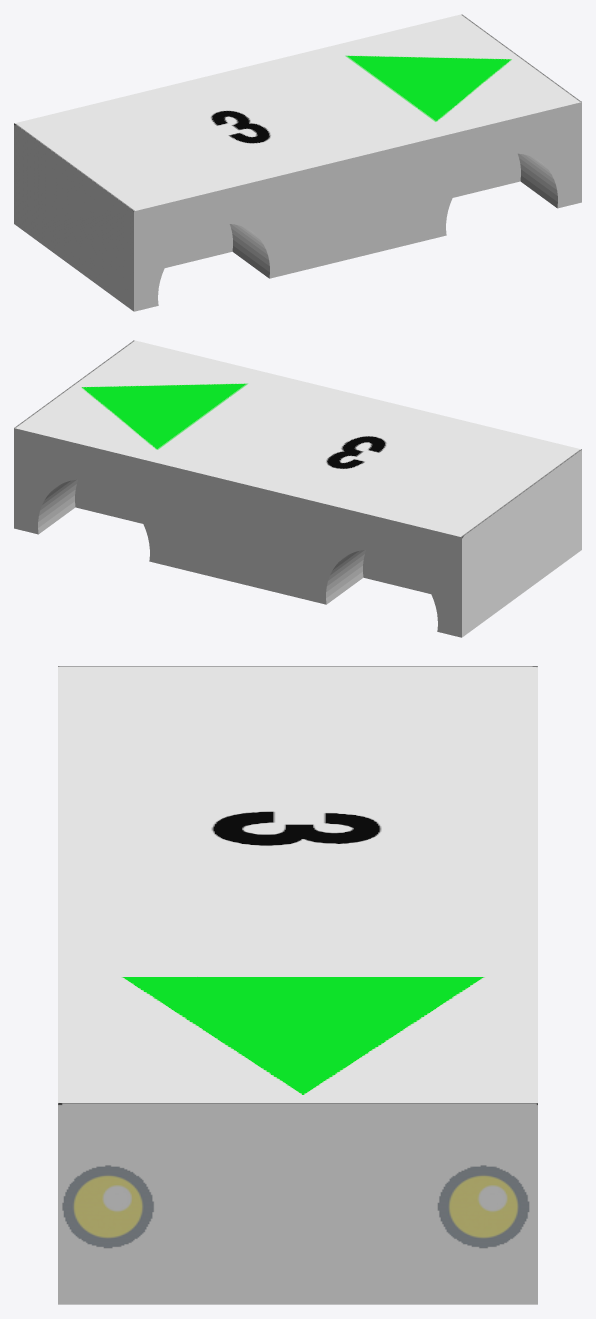
File: base_link_robot_3.dae
The picture shows the model from 3 angles, top to bottom: view 1: azimuth 30°, elevation 25°; view 2: azimuth 150°, elevation 25°; view 3: azimuth 270°, elevation 25°; orthographic projection. The views are drawn at different scales.
Parts seen in each view (by area): view 1: base_link; view 2: base_link; view 3: base_link.
Part boxes in pixels (x1=…): base_link: x1=14, y1=14, x2=581, y2=311; base_link: x1=14, y1=340, x2=581, y2=637; base_link: x1=58, y1=666, x2=537, y2=1304.
Bounding box in the file's own units: 2.8 × 1.3 × 0.6.
Materials: 2 (1 with a texture image).
